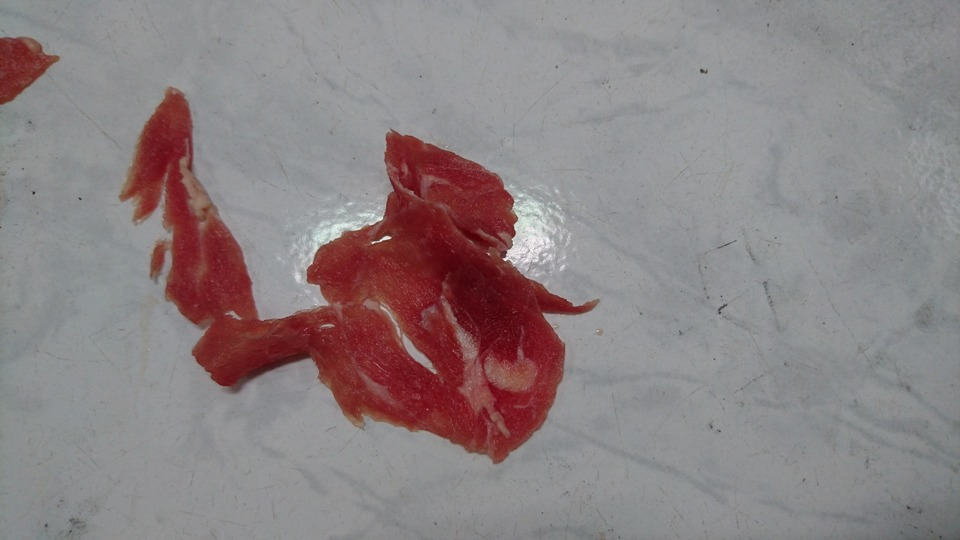restructured meat: (125, 99, 590, 454)
